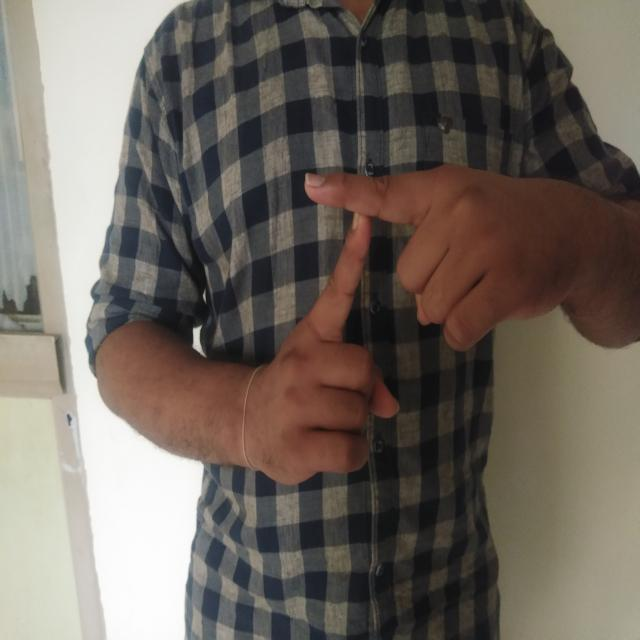T: (232, 156, 574, 503)
